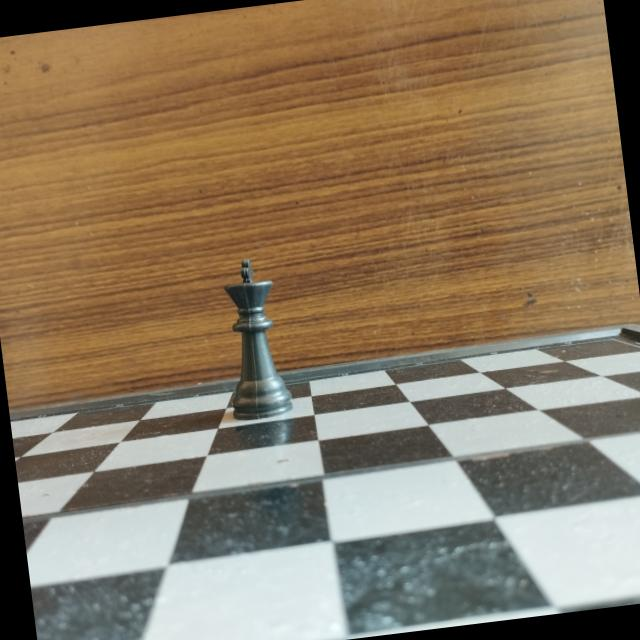Black King: (212, 246, 296, 424)
